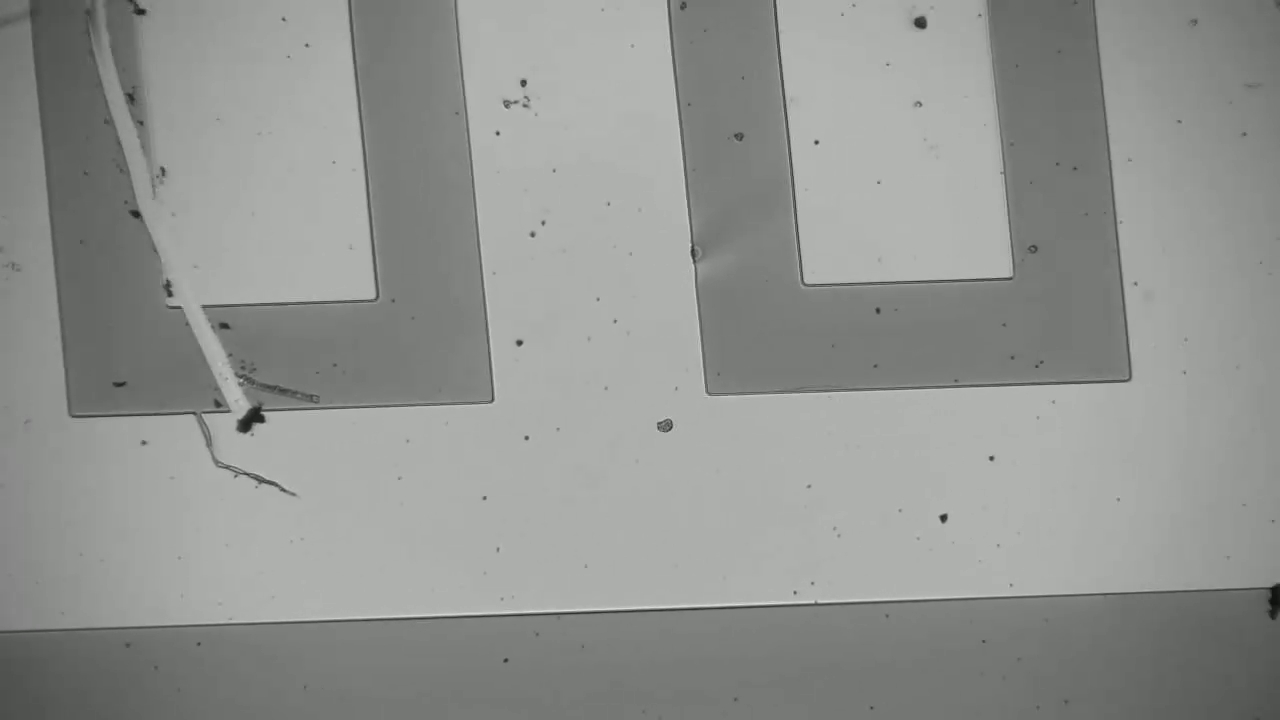Short_circuit: (182, 295, 282, 443)
